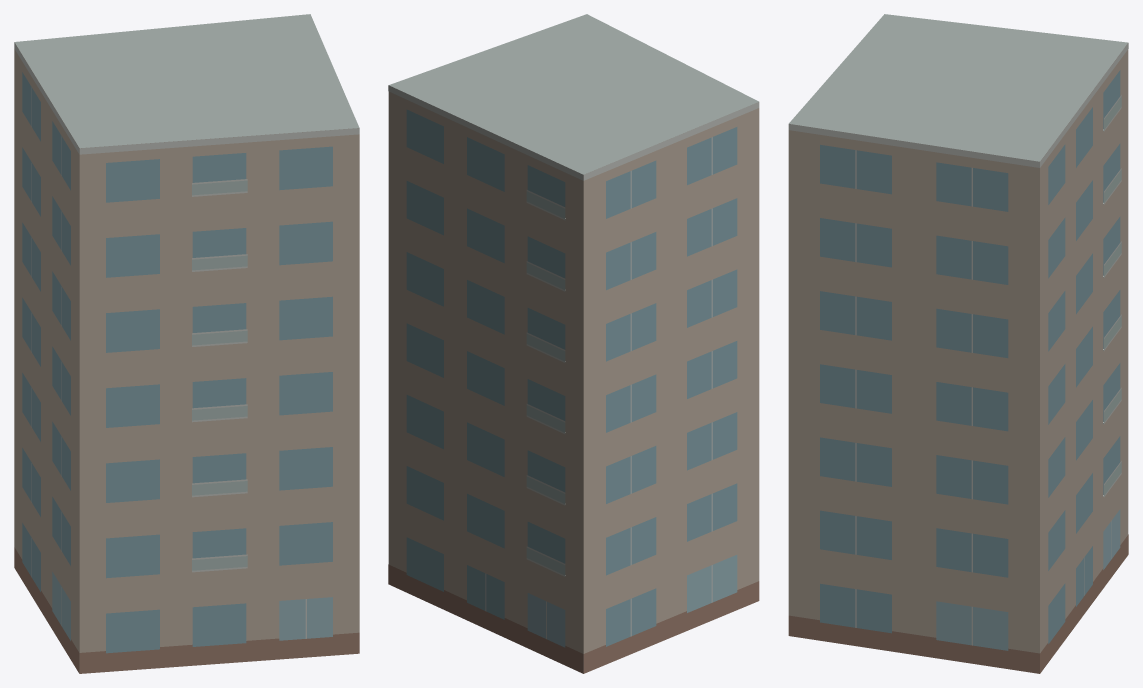
Rendered from survey-upis-32539750.glb.
3 renders of one model, left to right at view 1: azimuth 30°, elevation 25°; view 2: azimuth 150°, elevation 25°; view 3: azimuth 270°, elevation 25°, orthographic. The views are drawn at different scales.
Visible parts, largest first — view 1: survey-upis-32539750.tmp; view 2: survey-upis-32539750.tmp; view 3: survey-upis-32539750.tmp.
Part boxes in pixels (box(x1,y1,x2,y2)): survey-upis-32539750.tmp: box(14, 14, 359, 673); survey-upis-32539750.tmp: box(388, 14, 759, 673); survey-upis-32539750.tmp: box(788, 14, 1128, 673).
Bounding box in the file's own units: 12.32 × 19.9 × 11.98.
